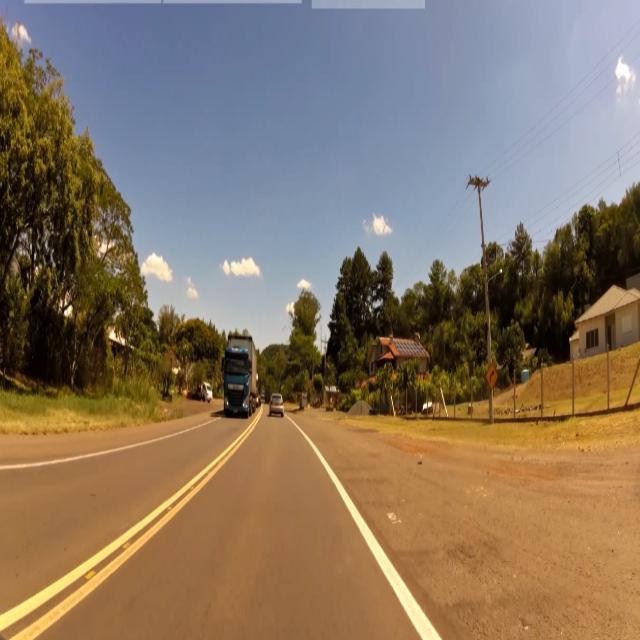A-2b: (486, 363, 500, 393)
